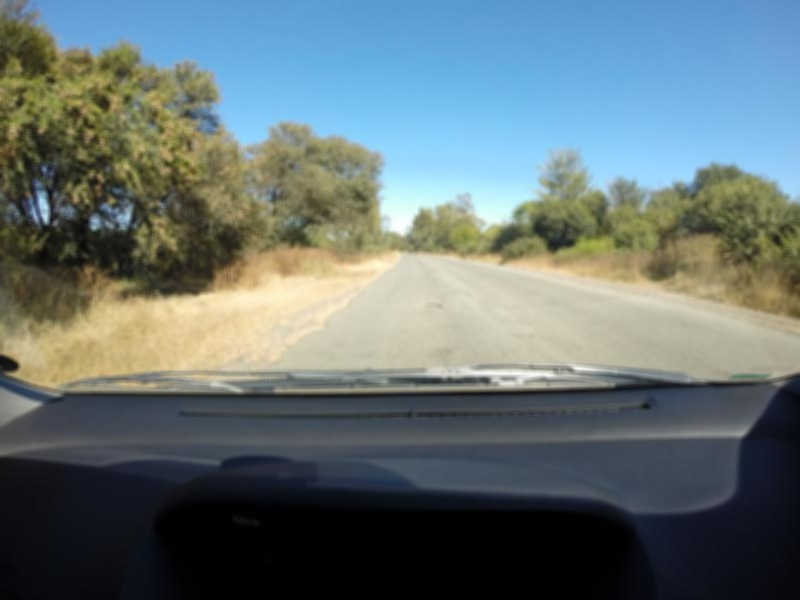pothole: (424, 296, 444, 315)
